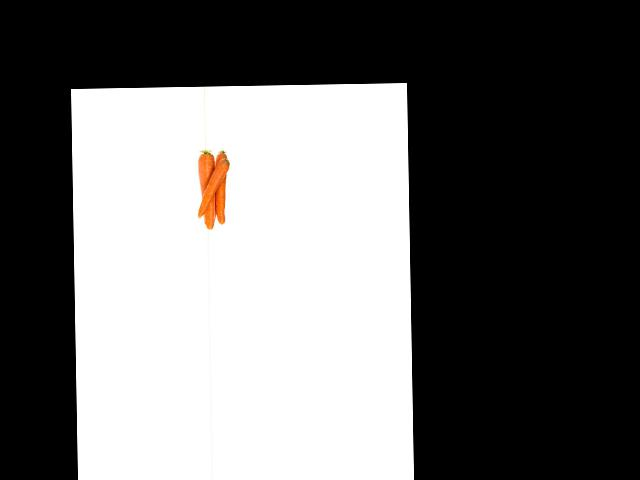carrot: (197, 149, 214, 232)
